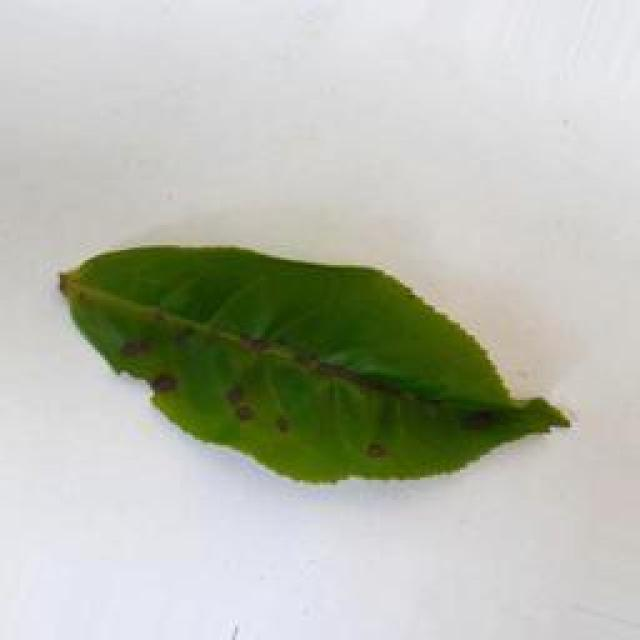Helopeltis: (54, 239, 576, 492)
